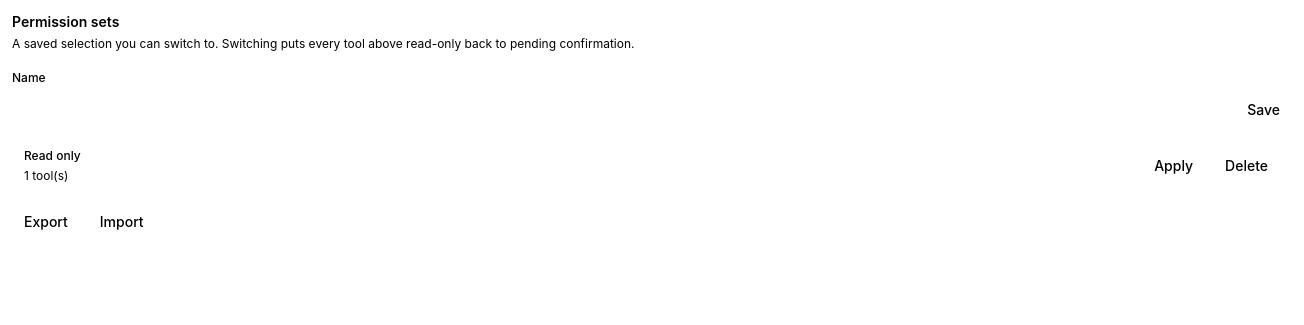
Scenario: switching to a set names the tools that still need confirming
Click the button "Apply" at (1174, 166), box [1142, 148, 1205, 184]
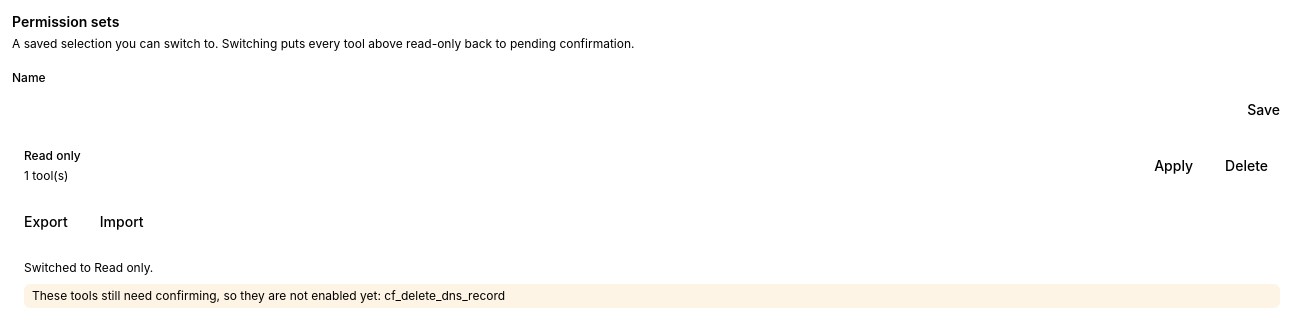
Check: the message with test id "permission-set-outcome" shows "Switched to Read only.", box [24, 260, 153, 275]
Check: the 2nd list item is shown, box [24, 284, 1280, 308]
Check: the 2nd list item shows "not enabled yet", box [32, 288, 505, 303]
